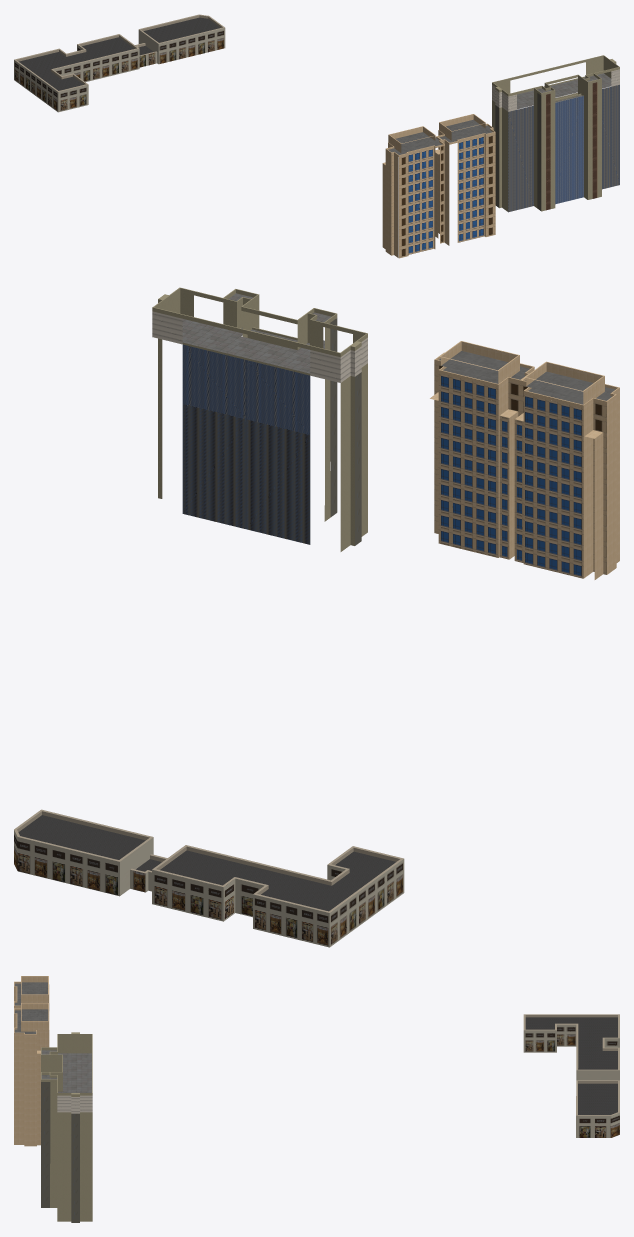
File: NoLod_17.glb
The picture shows the model from 3 angles, top to bottom: view 1: azimuth 30°, elevation 25°; view 2: azimuth 150°, elevation 25°; view 3: azimuth 270°, elevation 25°; orthographic projection. The views are drawn at different scales.
Visible parts, largest first — view 1: rtc; view 2: rtc; view 3: rtc.
Boxes of the visible parts, x1,y1,x2,y2 form: rtc: [14, 14, 619, 258]; rtc: [14, 287, 619, 947]; rtc: [14, 976, 619, 1222].
Size of the model in its own units: 152 by 48.93 by 209.
16 materials, 16 textured.
